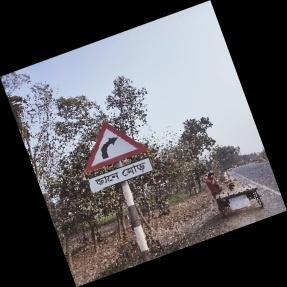Right-turn: (84, 122, 153, 194)
